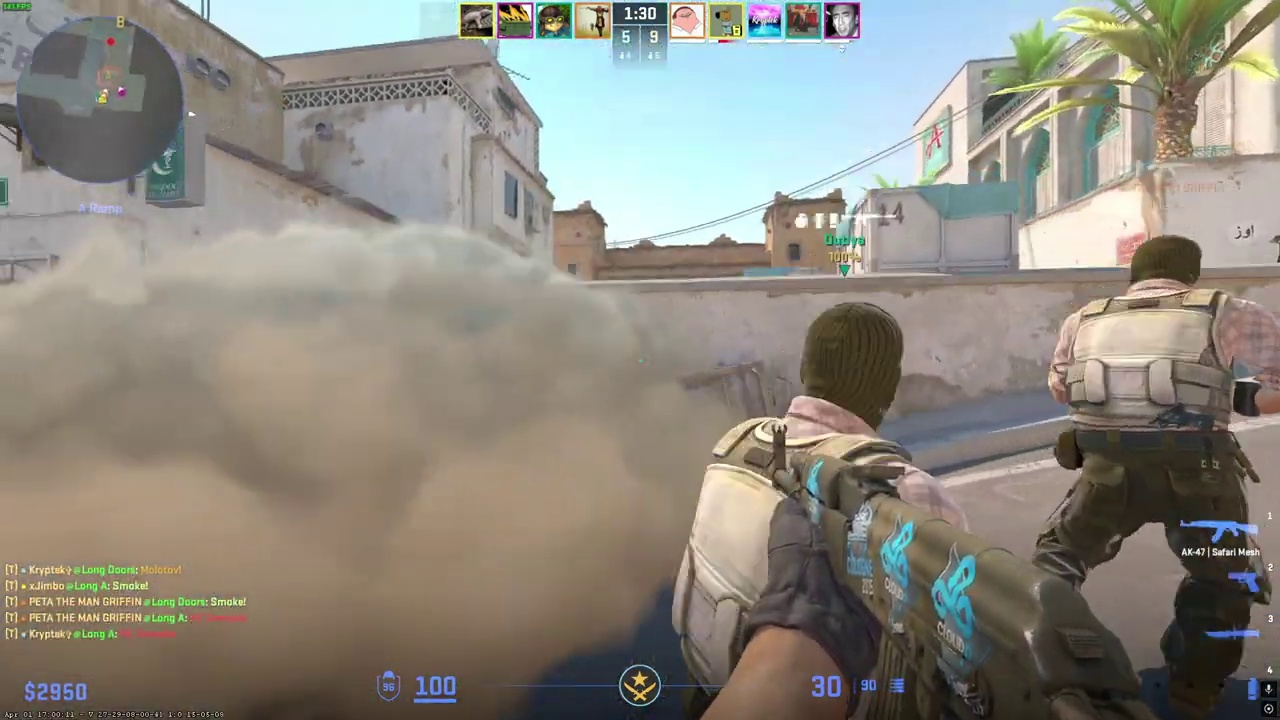Terrorist: (1037, 232, 1279, 720), (691, 299, 918, 716)
